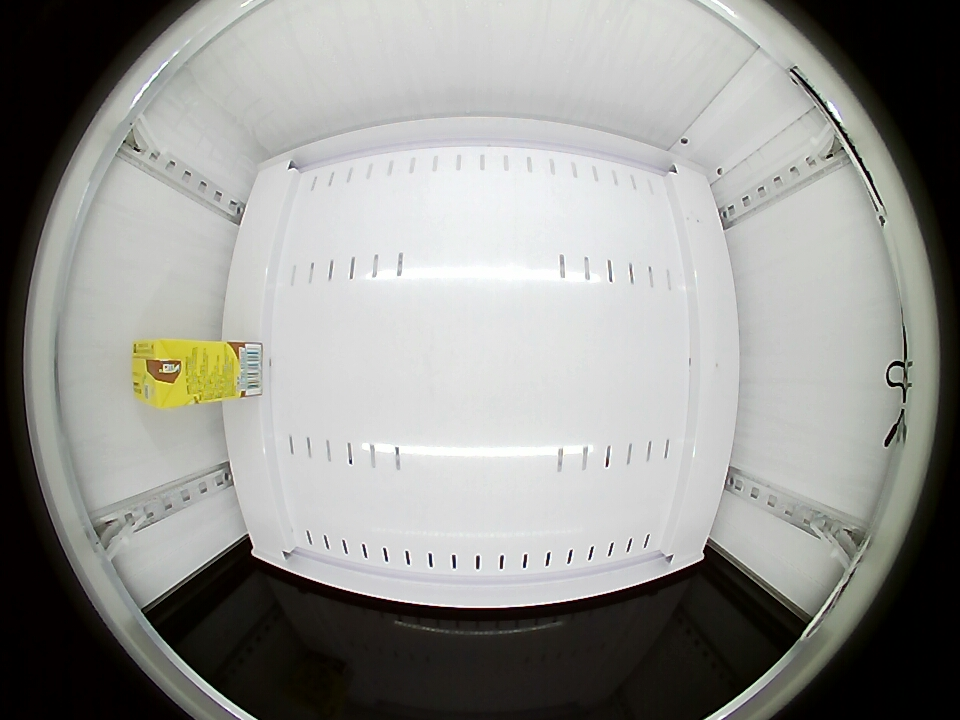weitaningmeng: (132, 340, 193, 408)
